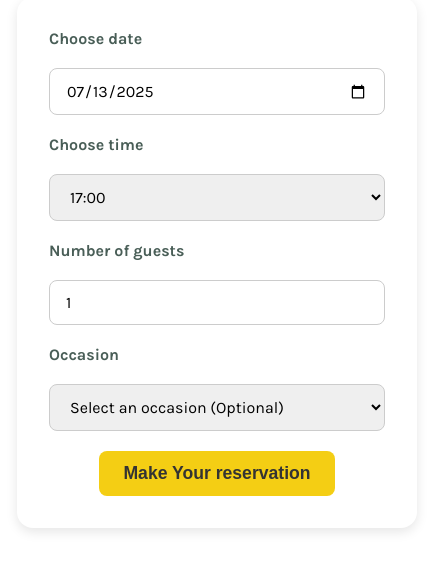
BookingForm Component Tests › BookingForm JavaScript Validation Functions › guests input shows error for non-numeric input
Type "abc" into the number field labelled "Number of guests".
click(217, 302); type("abc")  # box x1=49 y1=280 x2=385 y2=325
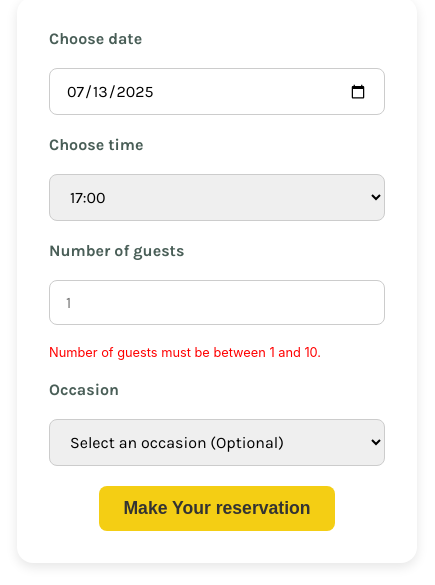
Check: the number field labelled "Number of guests" is not empty, box x1=49 y1=280 x2=385 y2=325
Check: the text "Number of guests must be between 1 and 10." is shown, box x1=49 y1=345 x2=321 y2=360
